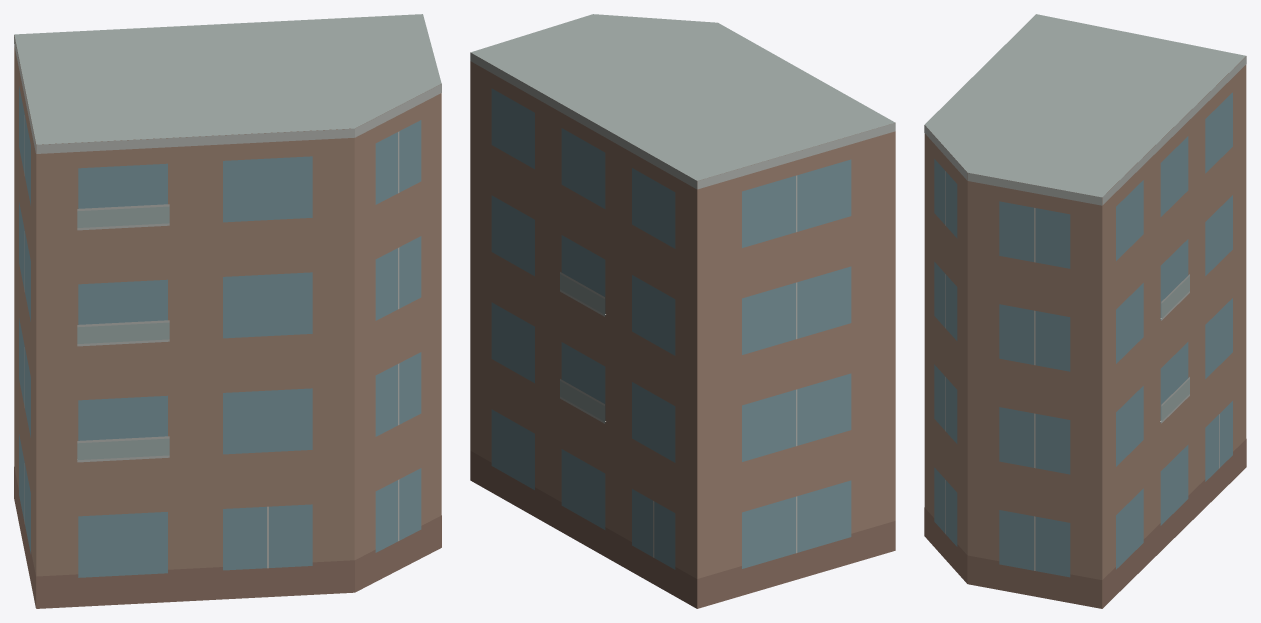
Rendered from survey-upis-32930183.glb.
3 renders of one model, left to right at view 1: azimuth 30°, elevation 25°; view 2: azimuth 150°, elevation 25°; view 3: azimuth 270°, elevation 25°, orthographic. The views are drawn at different scales.
Visible parts, largest first — view 1: survey-upis-32930183.tmp; view 2: survey-upis-32930183.tmp; view 3: survey-upis-32930183.tmp.
Boxes of the visible parts, <box> form: survey-upis-32930183.tmp: <box>14,14,441,608</box>; survey-upis-32930183.tmp: <box>470,14,895,608</box>; survey-upis-32930183.tmp: <box>924,14,1246,608</box>.
Size of the model in its own units: 11.63 by 12.15 by 8.63.
